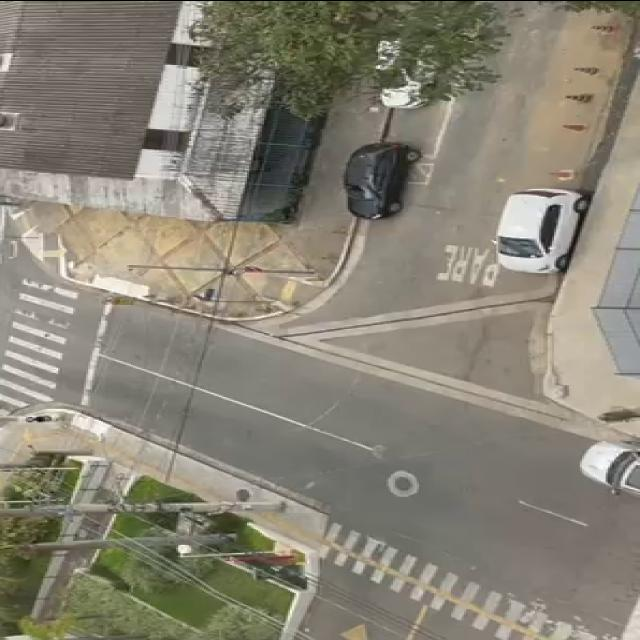car: (485, 182, 610, 276), (366, 21, 446, 112), (340, 138, 422, 216), (566, 432, 640, 498)
